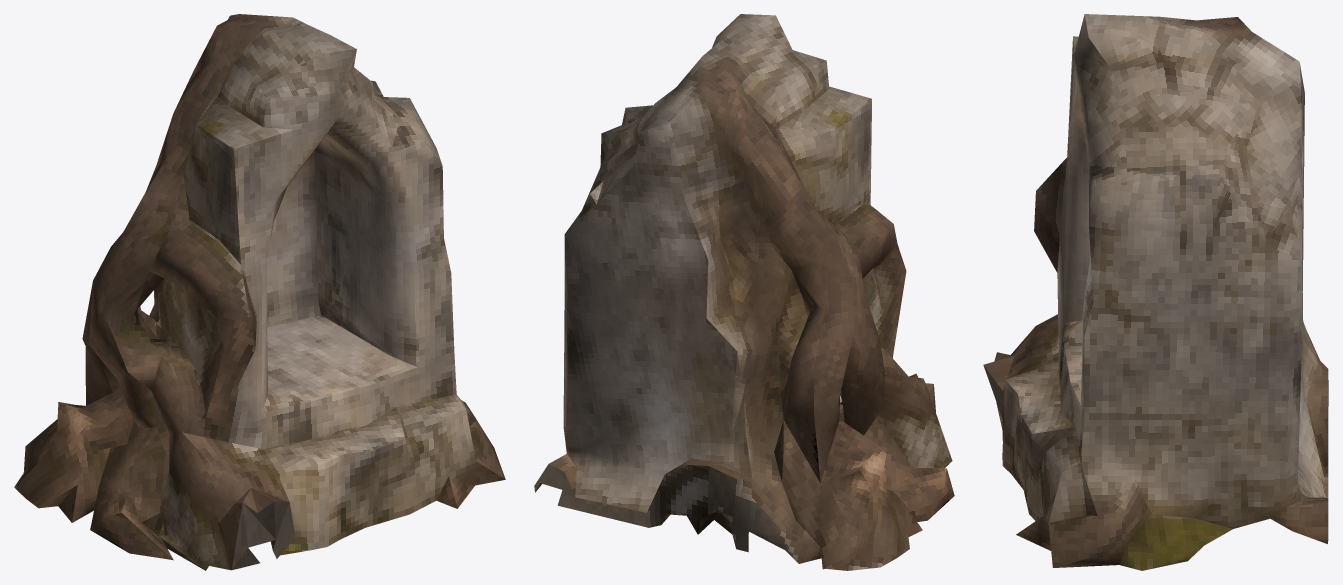
File: pixel-fantasy-root-entangled-wayside-shrine.glb
The picture shows the model from 3 angles, left to right: view 1: azimuth 30°, elevation 25°; view 2: azimuth 150°, elevation 25°; view 3: azimuth 270°, elevation 25°; orthographic projection. The views are drawn at different scales.
Visible parts, largest first — view 1: 02_OPTIMIZED_RUNTIME; view 2: 02_OPTIMIZED_RUNTIME; view 3: 02_OPTIMIZED_RUNTIME.
Boxes of the visible parts, x1=… form: 02_OPTIMIZED_RUNTIME: x1=14, y1=14, x2=505, y2=570; 02_OPTIMIZED_RUNTIME: x1=534, y1=14, x2=954, y2=570; 02_OPTIMIZED_RUNTIME: x1=983, y1=14, x2=1328, y2=570.
Bounding box in the file's own units: 1.42 × 1.61 × 1.06.
Materials: 1 (1 with a texture image).
